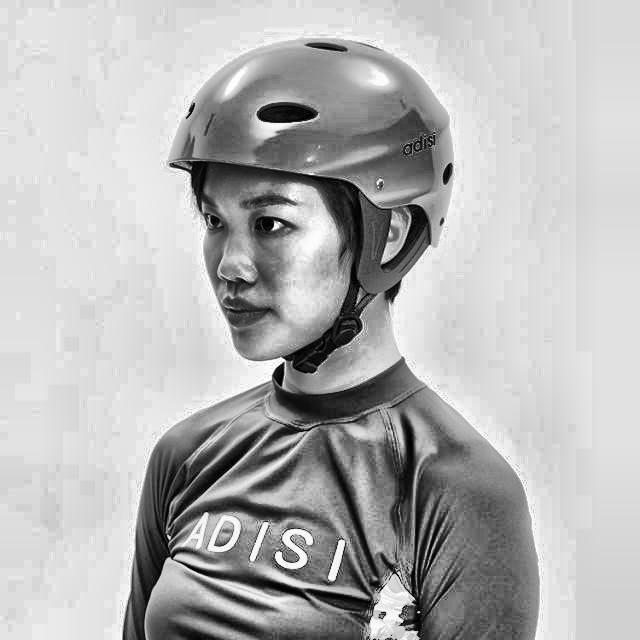Helmet: (158, 21, 459, 384)
